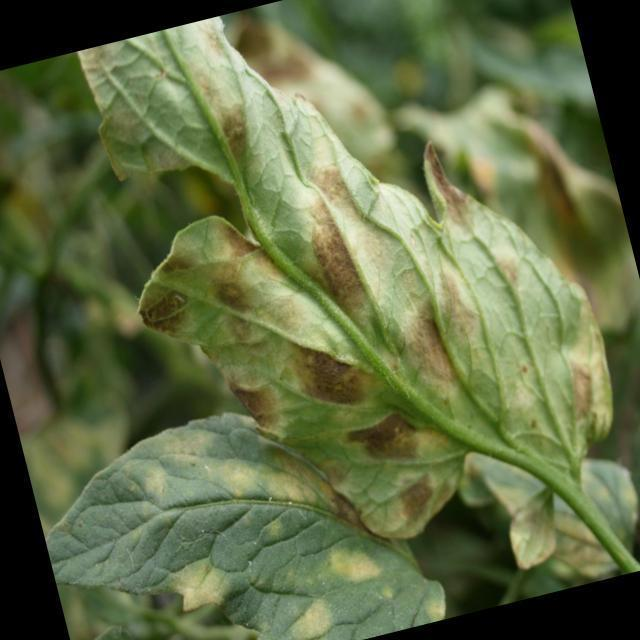Mosaic Virus: (68, 0, 639, 588), (27, 378, 447, 640)
